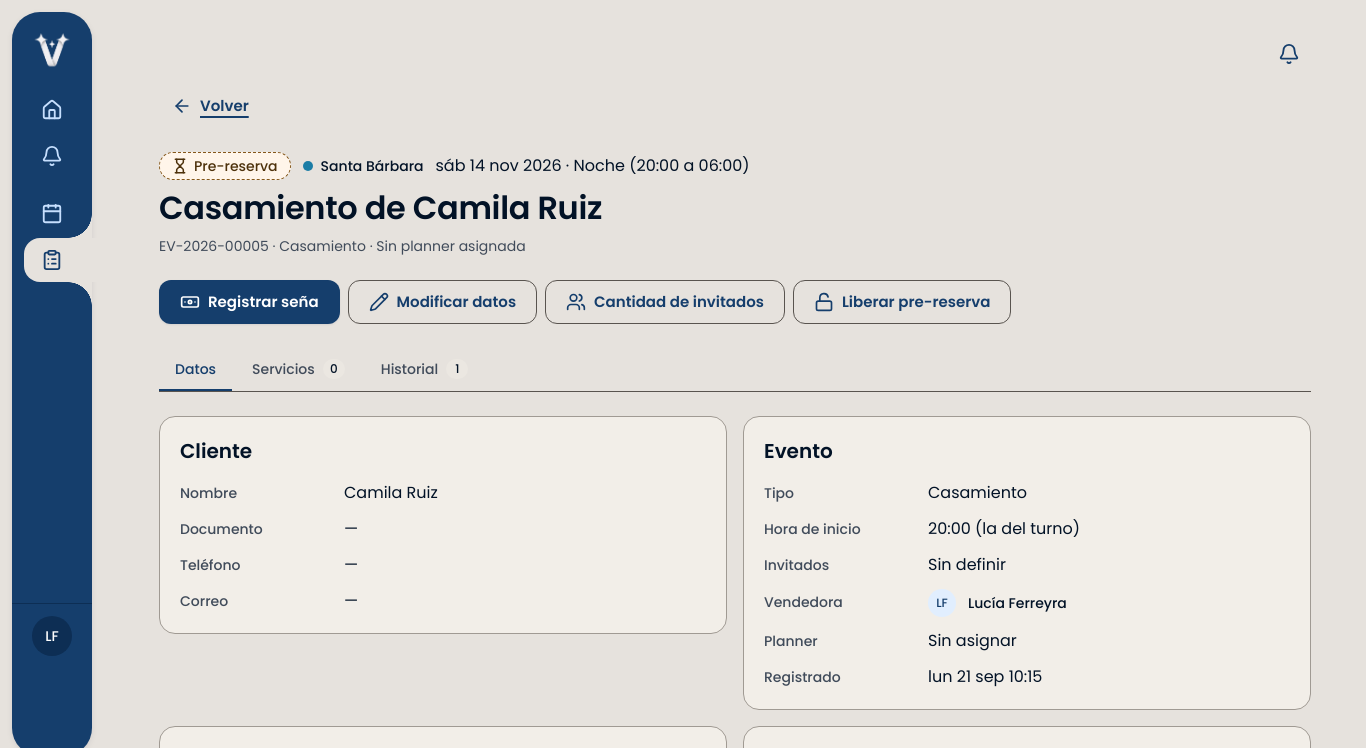
UI-11 · registrar seña › la seña puede ser en dólares, sin conversión, y la ficha la muestra con su moneda
Click the button "Registrar seña".
click(249, 302)  # box [159,280,340,324]
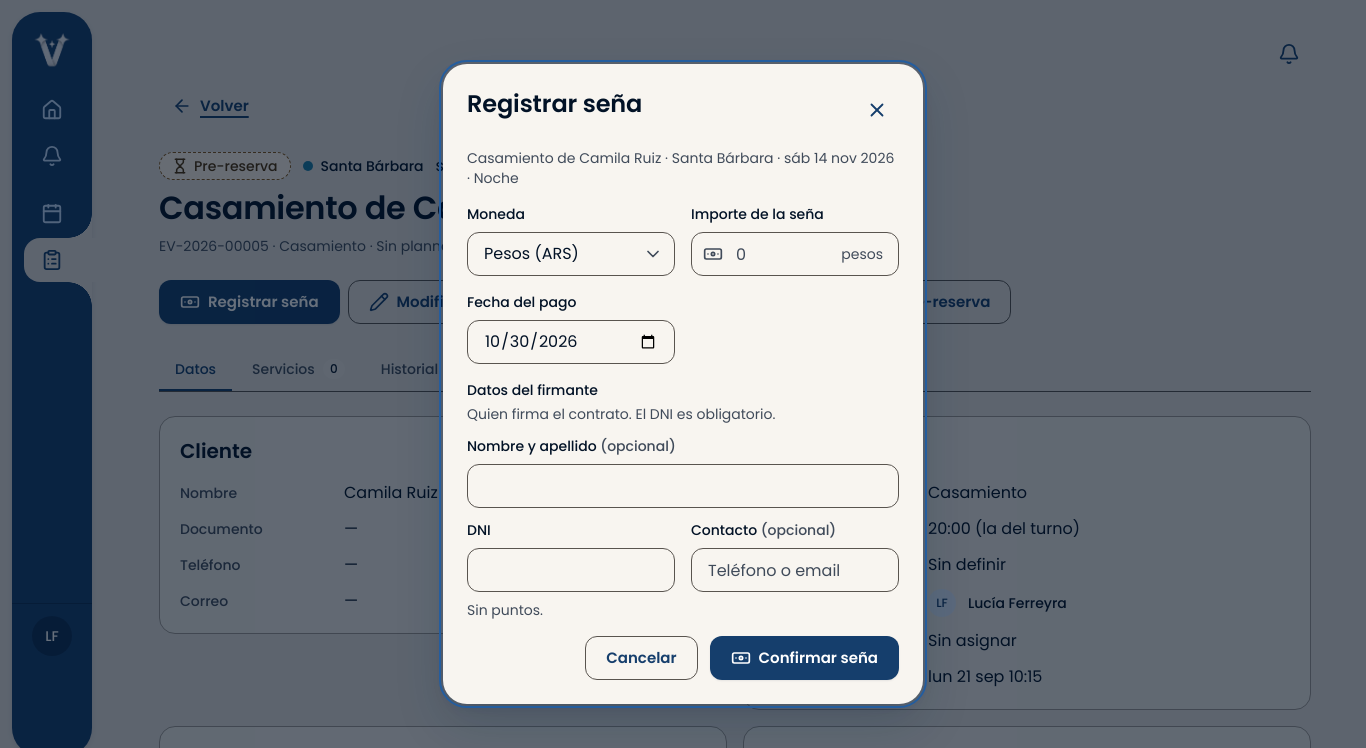
Now the dropdown labelled "Moneda" shows "Pesos (ARS)"
Select "Dólares (USD)" in the dropdown labelled "Moneda" at (571, 254), box [467,232,675,276]
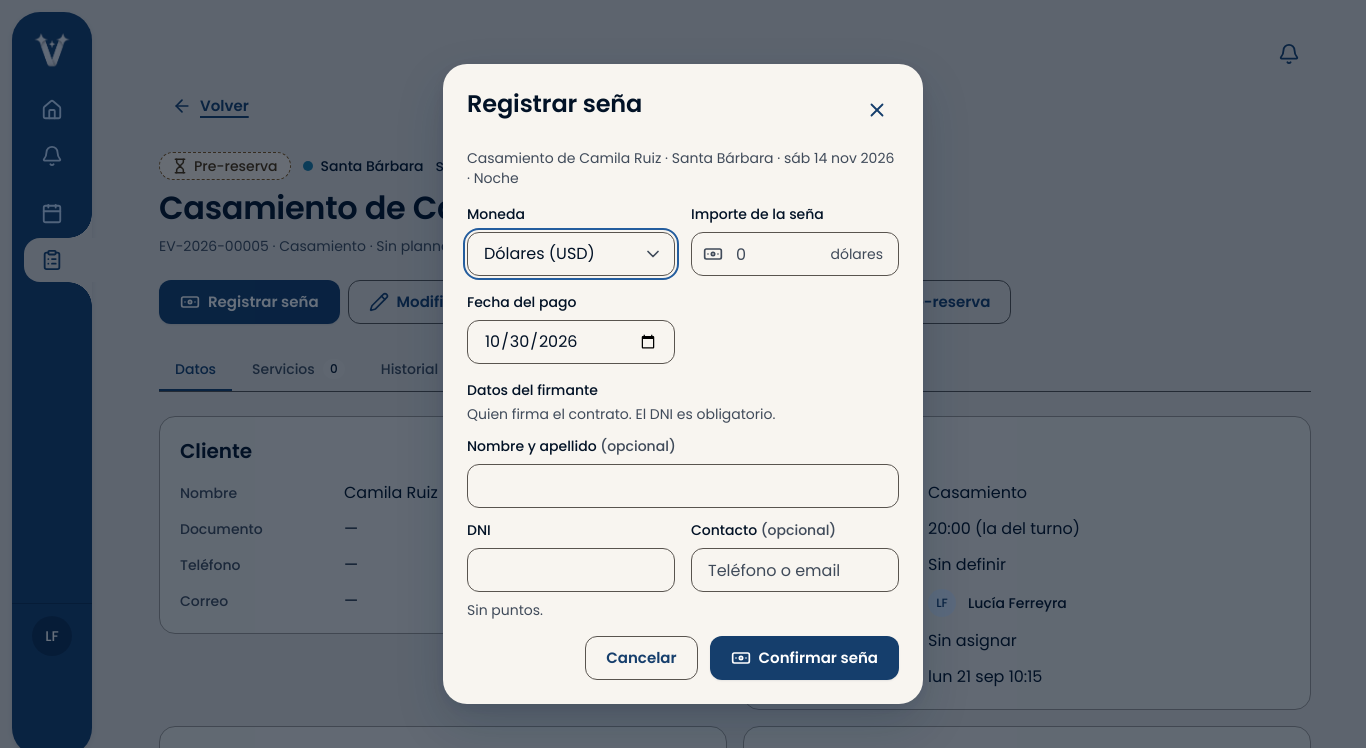
Now the text "dólares" is shown, box [830,244,883,264]
Type "1.500" into the field labelled "Importe de la seña".
click(795, 254); type("1.500")  # box [691,232,899,276]
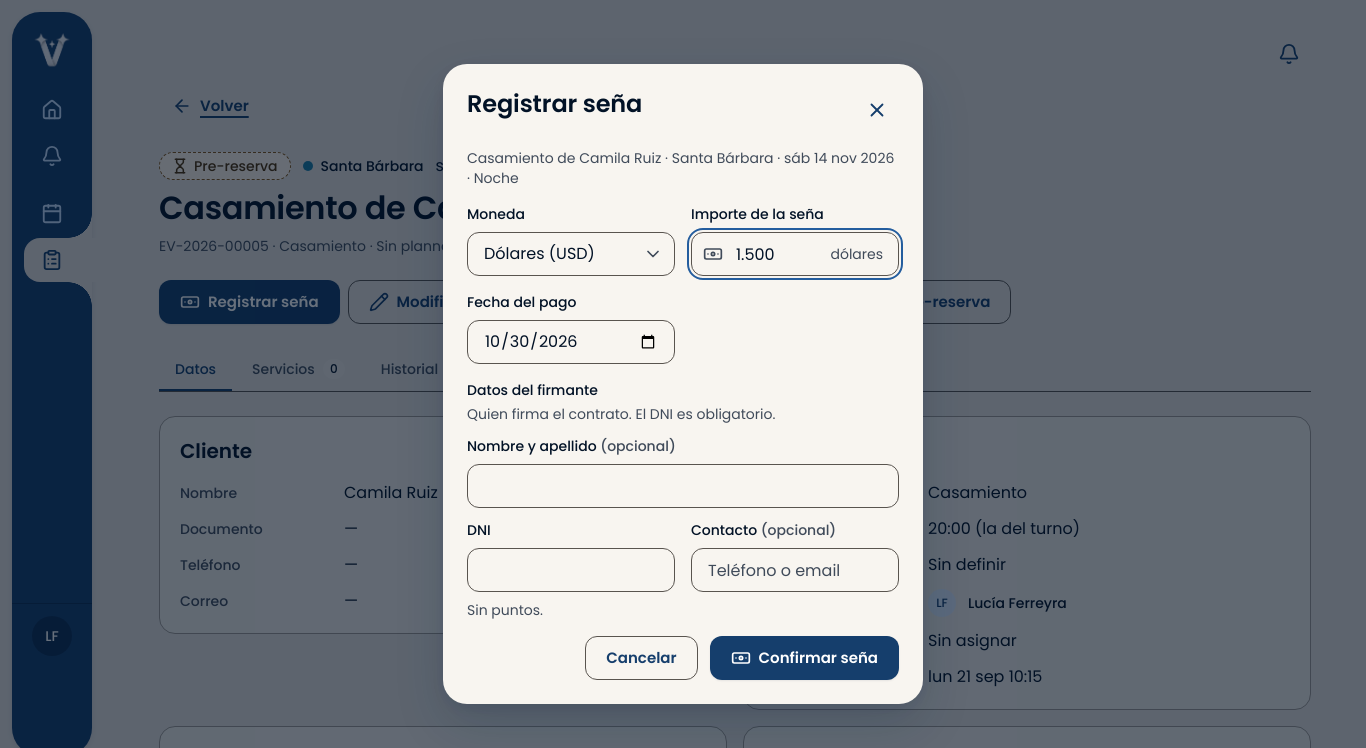
Type "30111222" into the field labelled "DNI".
click(571, 570); type("30111222")  # box [467,548,675,592]
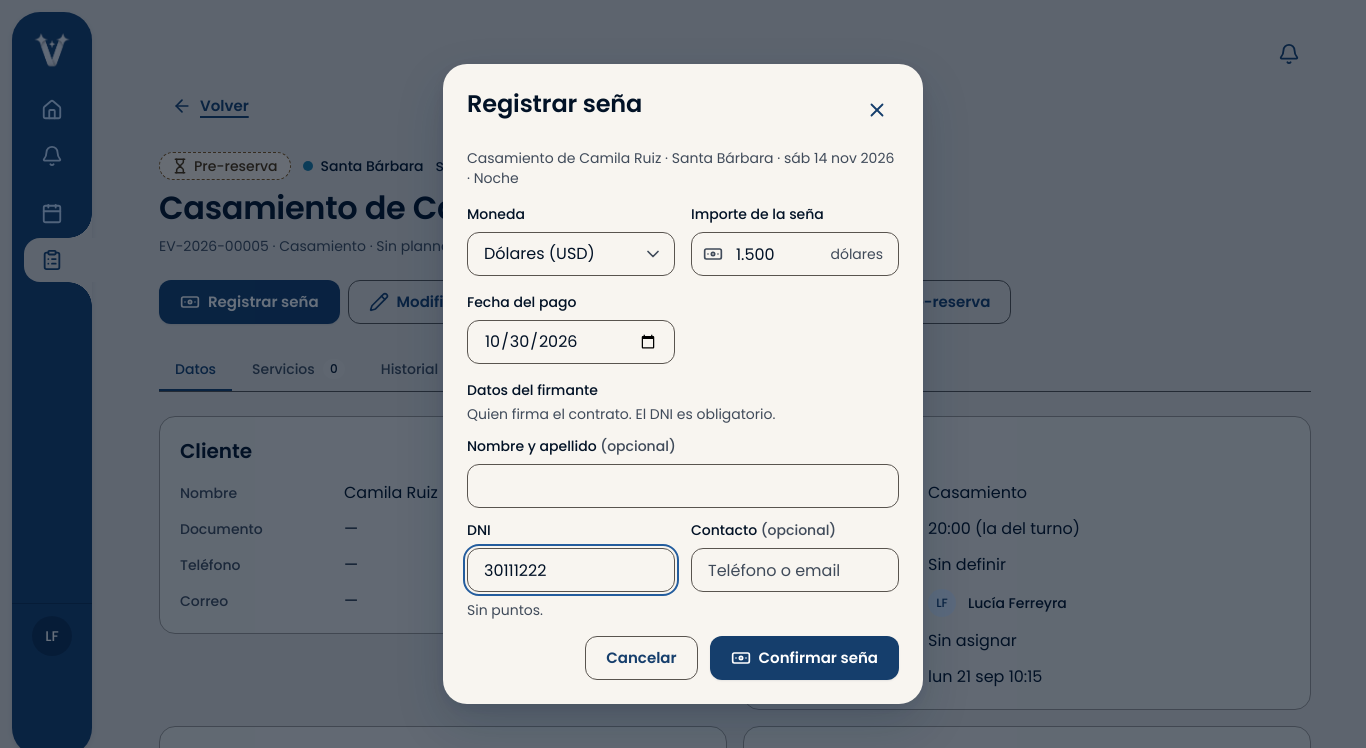
Click the button "Confirmar seña".
click(804, 658)  # box [710,636,899,680]
(page scrolled)
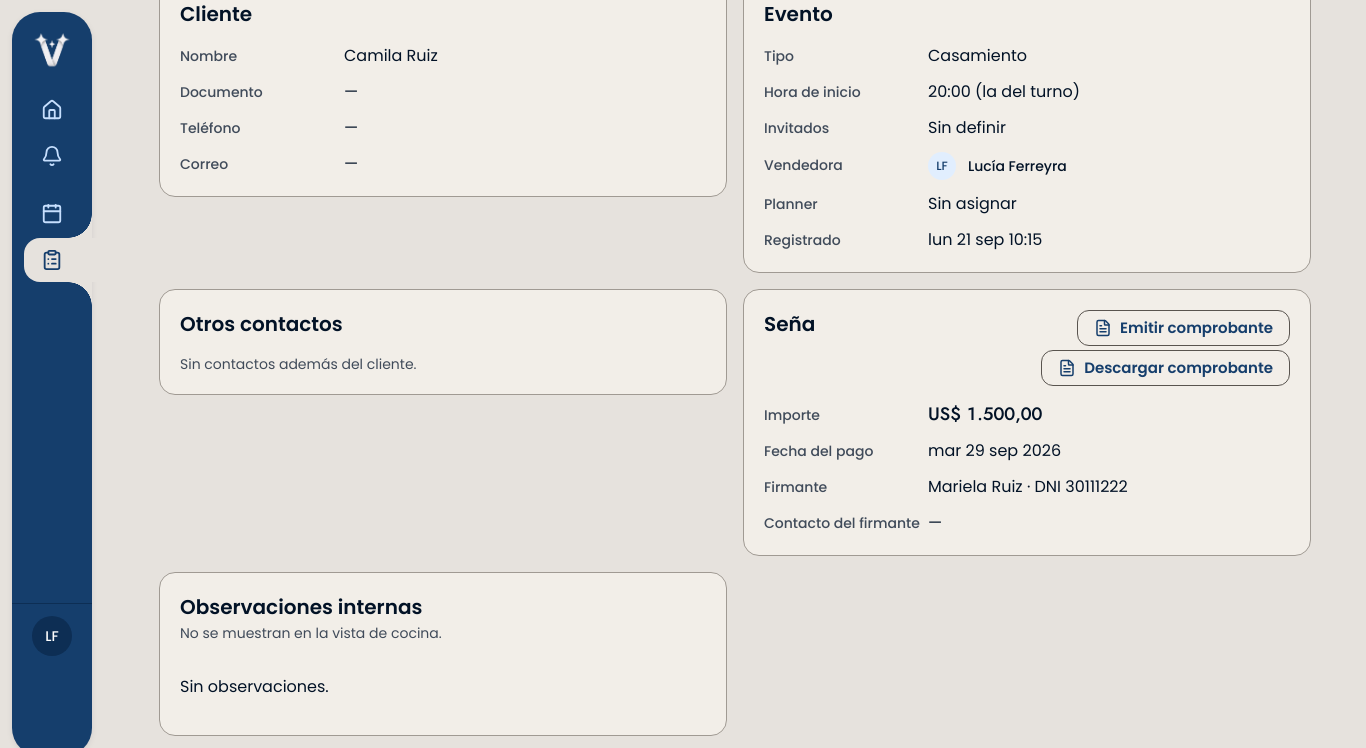
Now the text "US$ 1.500,00" is shown, box [928,401,1042,427]
